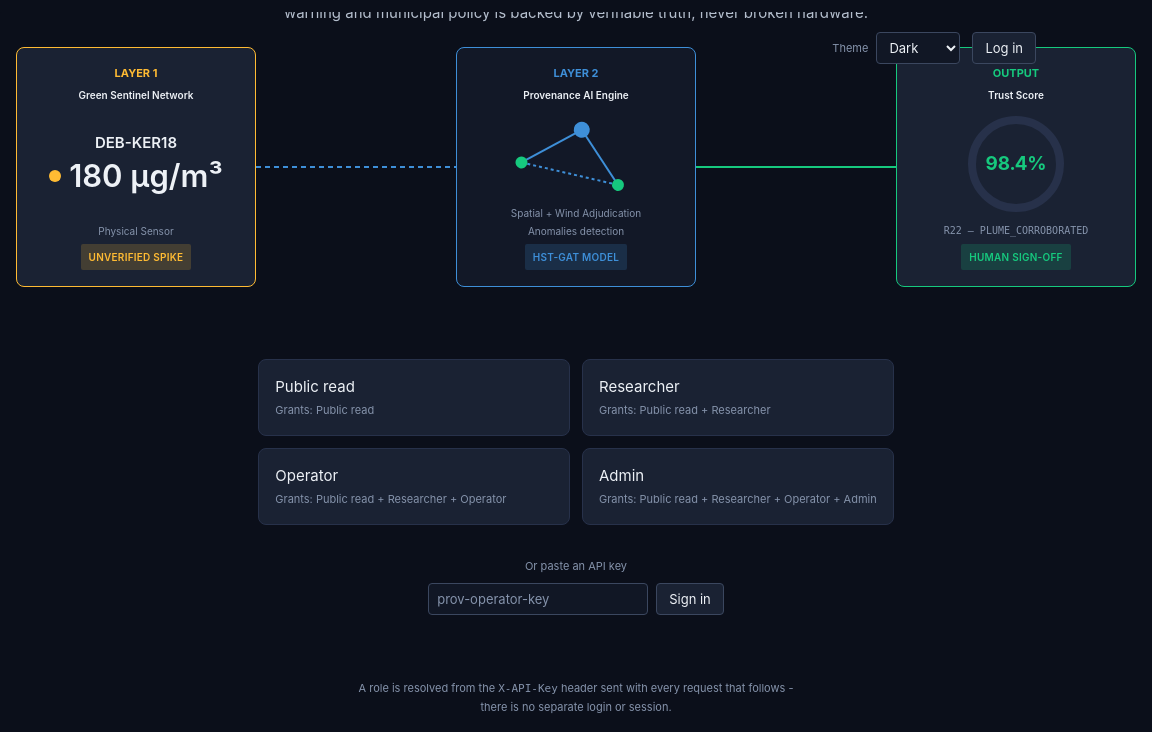
Test: SignInGate › rejects a key that matches none of the four dev keys, without signing in
The width and height of the screenshot is (1152, 732).
(page scrolled)
Type "not-a-real-key" into the field with test id "signin-api-key-input" at coordinates (538, 599), box [428,583,648,615]
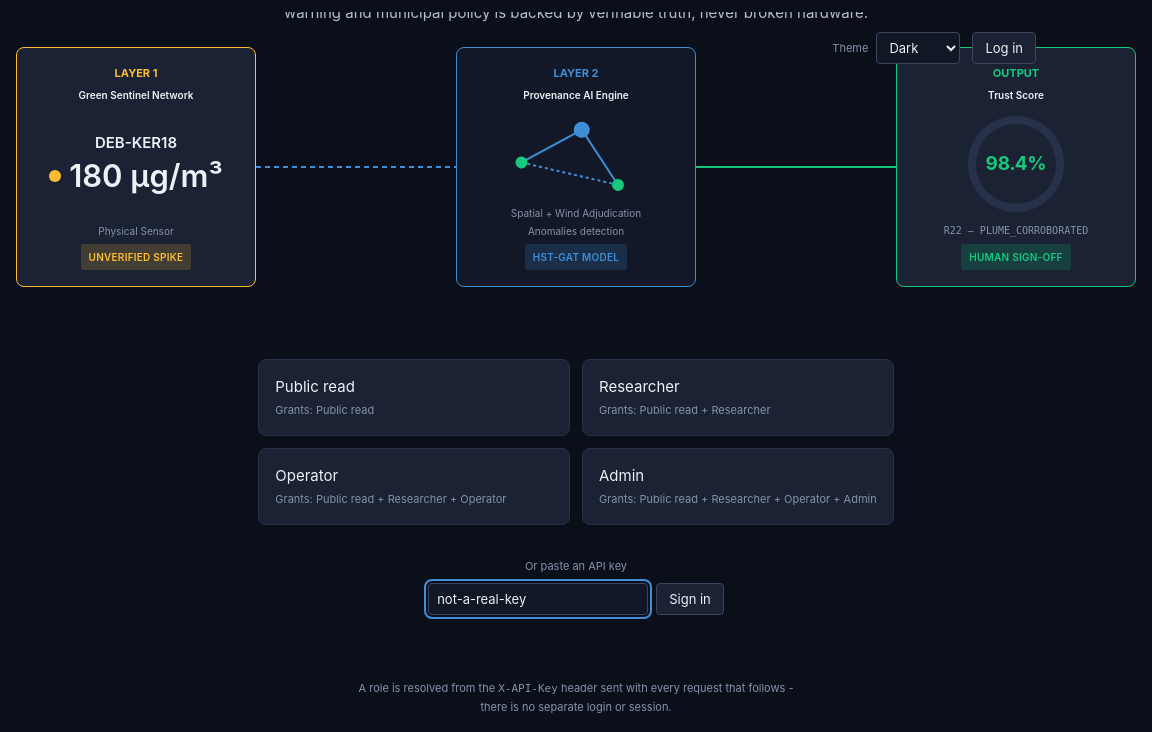
Click the button with test id "signin-api-key-submit" at coordinates (690, 599), box [656,583,724,615]
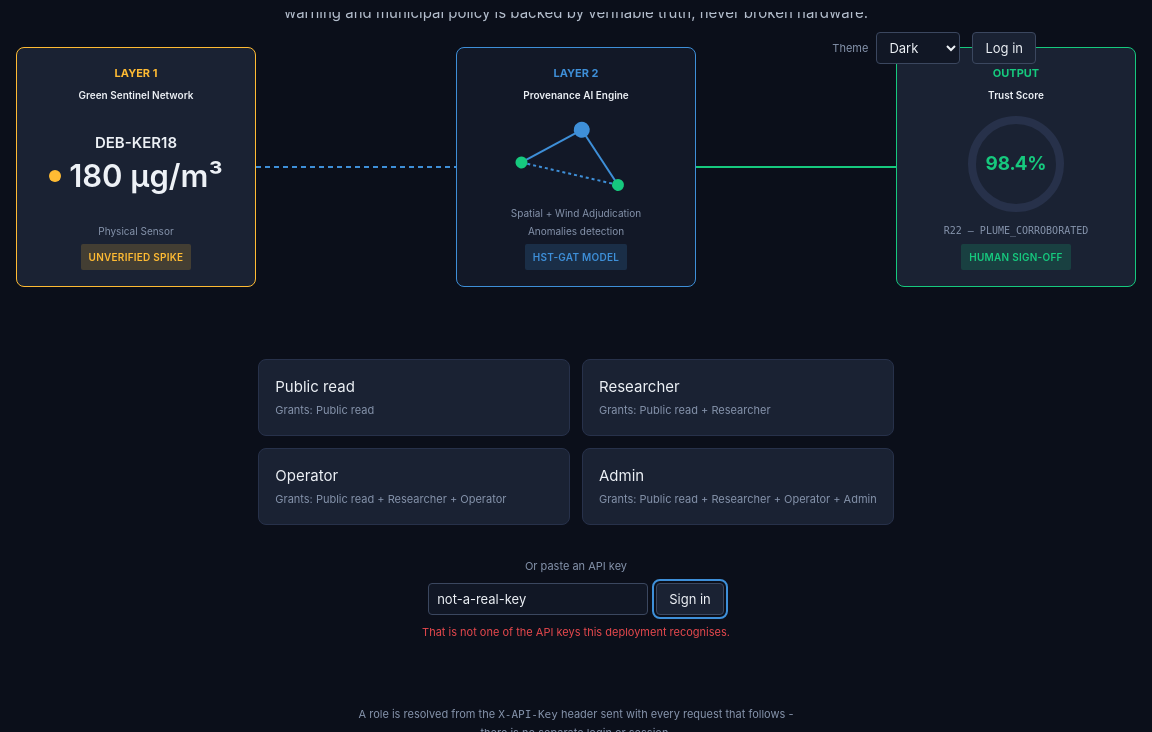
Expected: the message "That is not one of the API keys this deployment recognises." is shown, [422,623,730,641]
